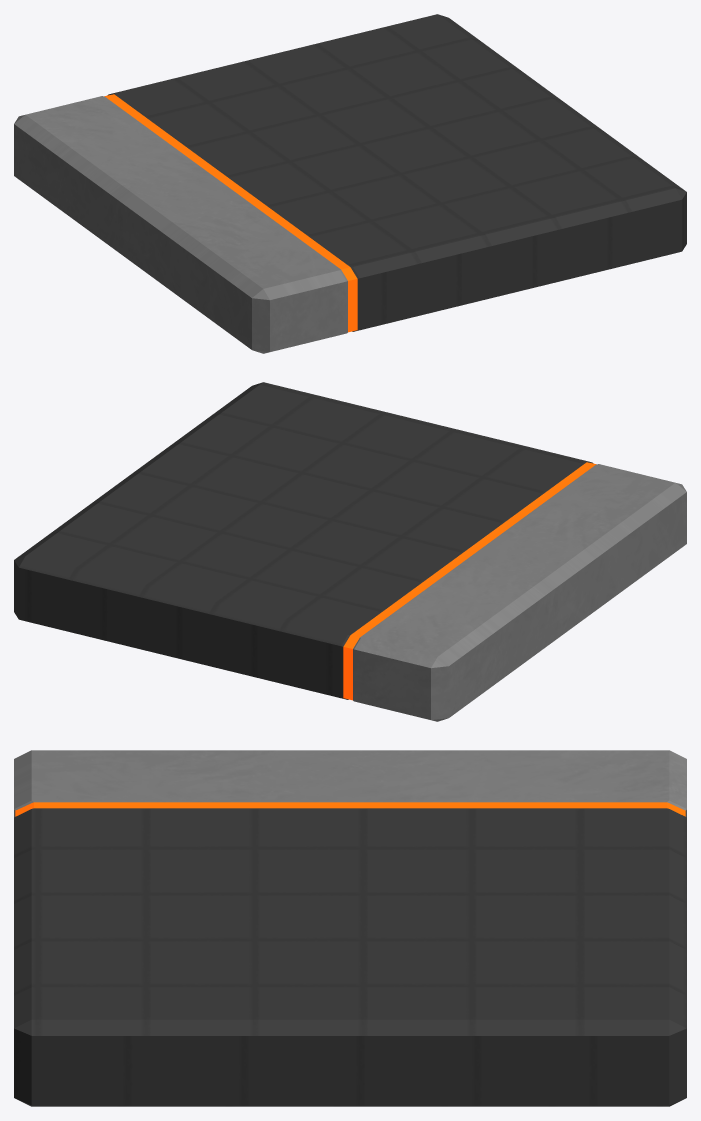
The model's file is tile_edge.fbx.
3 views of the same model, one above another, from view 1: azimuth 30°, elevation 25°; view 2: azimuth 150°, elevation 25°; view 3: azimuth 270°, elevation 25° (orthographic). The views are drawn at different scales.
Parts seen in each view (by area): view 1: tile_edge; view 2: tile_edge; view 3: tile_edge.
Part boxes in pixels (bbox=[...]): tile_edge: bbox=[14, 14, 686, 353]; tile_edge: bbox=[14, 382, 686, 721]; tile_edge: bbox=[14, 750, 686, 1106].
Size of the model in its own units: 2 by 0.2854 by 2.
